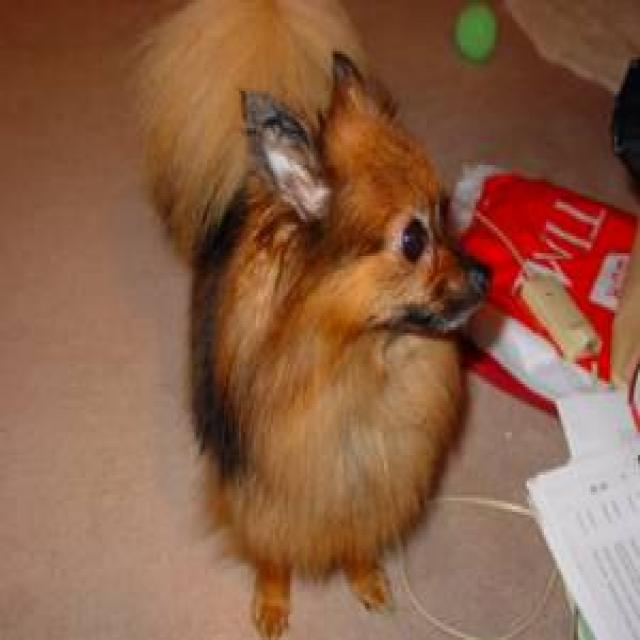dog-pomeranian: (128, 3, 501, 634)
